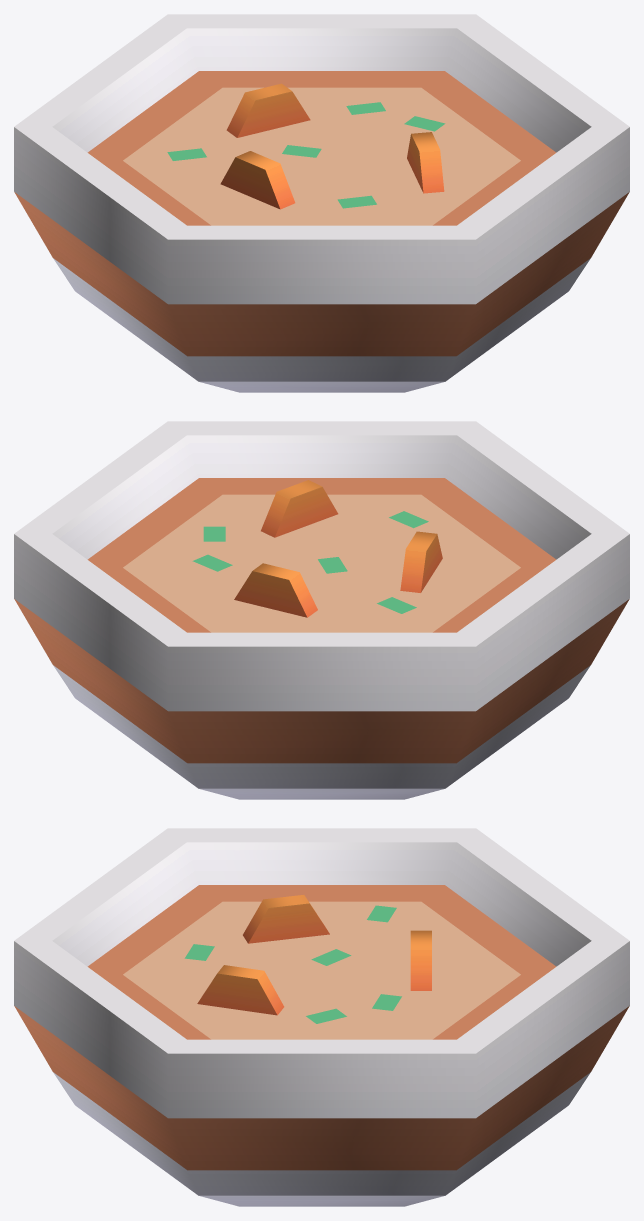
File: bowl-soup.9eaf6397cb.glb
The picture shows the model from 3 angles, top to bottom: view 1: azimuth 30°, elevation 25°; view 2: azimuth 150°, elevation 25°; view 3: azimuth 270°, elevation 25°; orthographic projection.
Visible parts, largest first — view 1: bowl-soup; view 2: bowl-soup; view 3: bowl-soup.
Boxes of the visible parts, box(x1,y1,x2,y2) form: bowl-soup: box(14, 14, 629, 392); bowl-soup: box(14, 421, 629, 799); bowl-soup: box(14, 828, 629, 1206).
Size of the model in its own units: 0.5022 by 0.2139 by 0.5798.
1 material, 1 textured.
